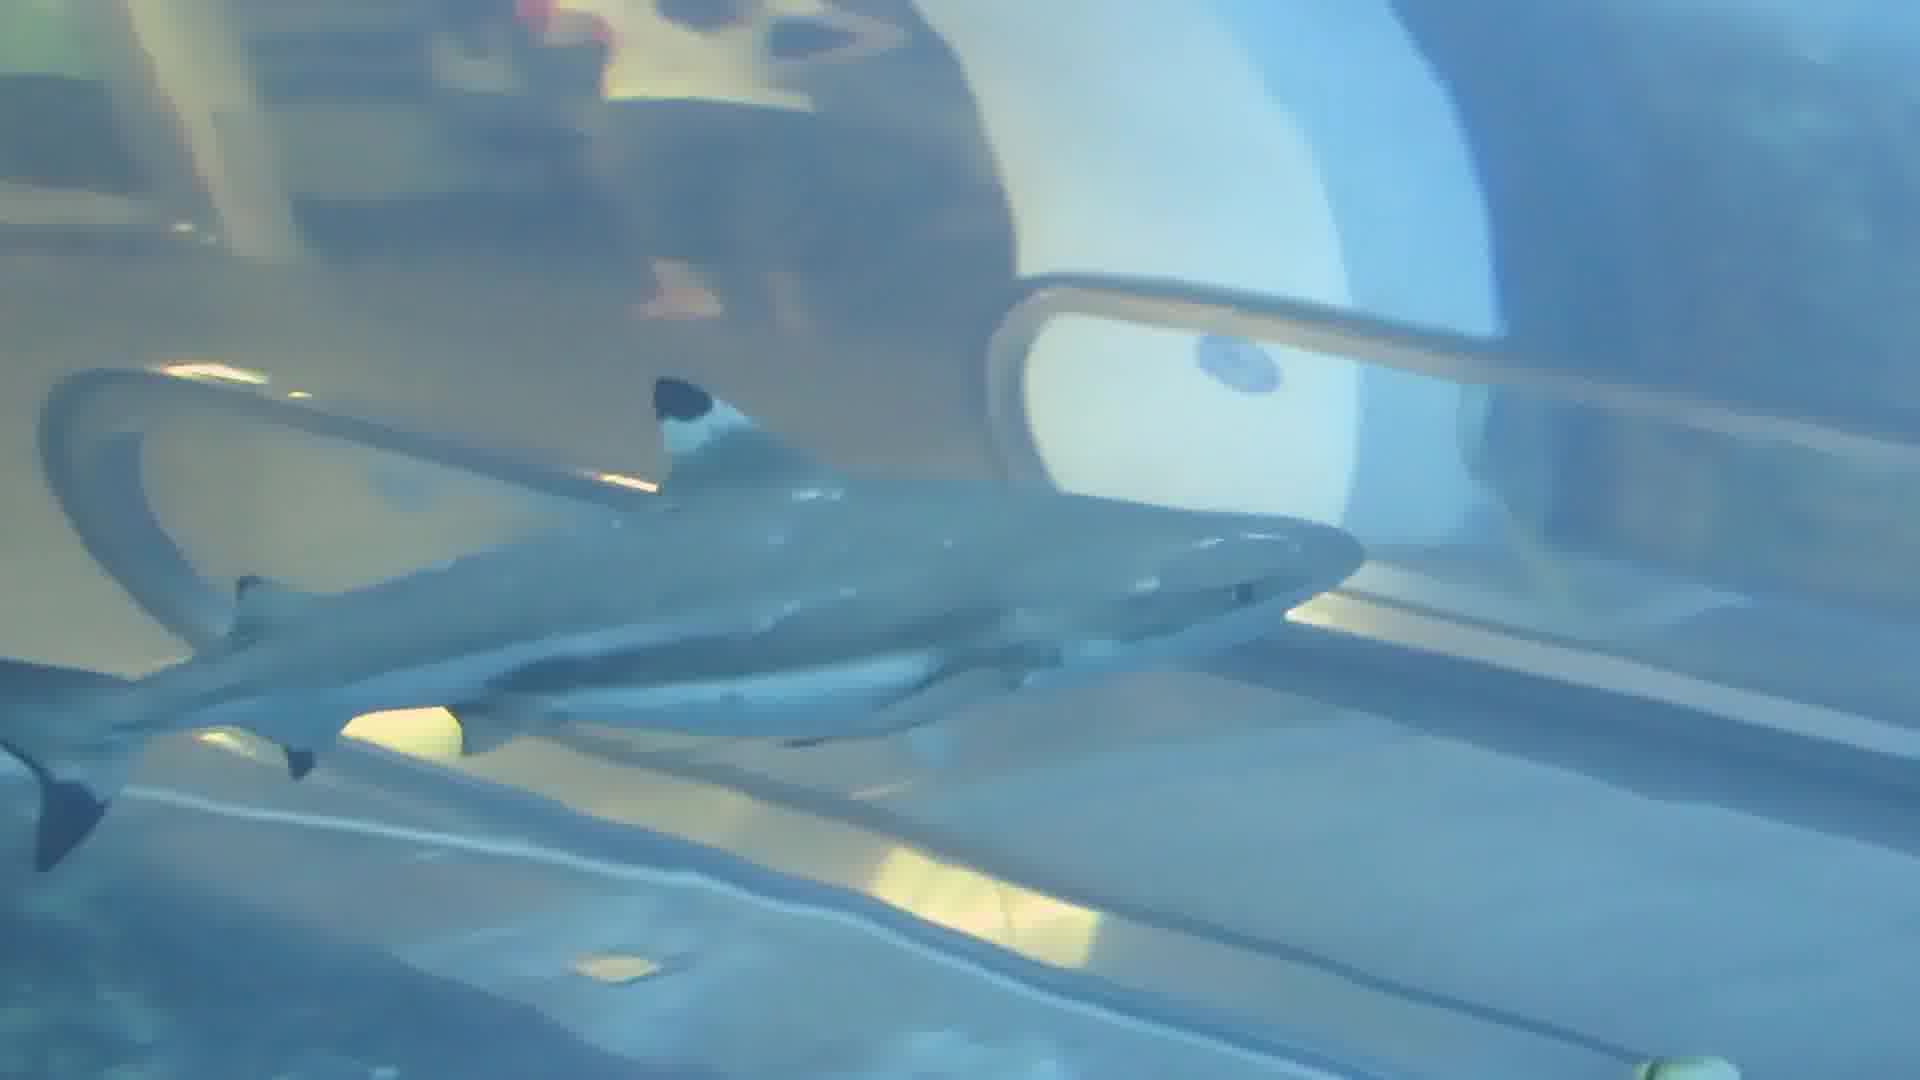Carcharhinus melanopterus: (1, 357, 1374, 866)
